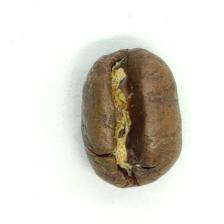NG: (94, 57, 167, 181)
